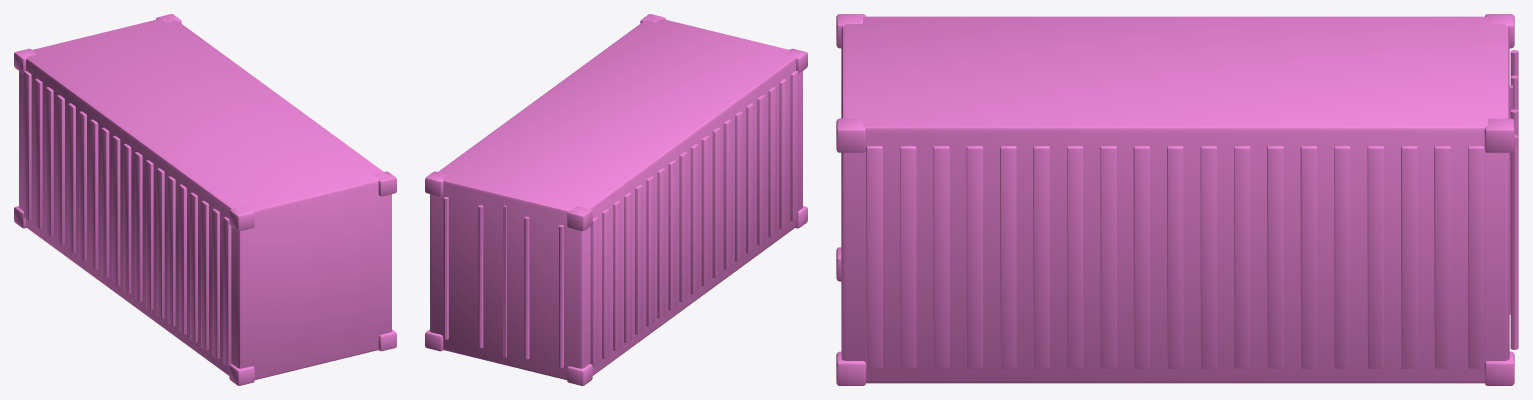
File: Docks_Container.fbx
3 renders of one model, left to right at view 1: azimuth 30°, elevation 25°; view 2: azimuth 150°, elevation 25°; view 3: azimuth 270°, elevation 25°, orthographic. The views are drawn at different scales.
Visible parts, largest first — view 1: Paint, Body; view 2: Paint, Body; view 3: Paint, Body.
Part boxes in pixels (x1=…): Paint: x1=19, y1=17, x2=391, y2=379; Body: x1=14, y1=14, x2=396, y2=385; Paint: x1=430, y1=17, x2=802, y2=379; Body: x1=425, y1=14, x2=807, y2=385; Paint: x1=841, y1=16, x2=1509, y2=383; Body: x1=836, y1=14, x2=1518, y2=385.
Bounding box in the file's own units: 8.3 × 8.5 × 20.42.
1 material, 1 textured.
